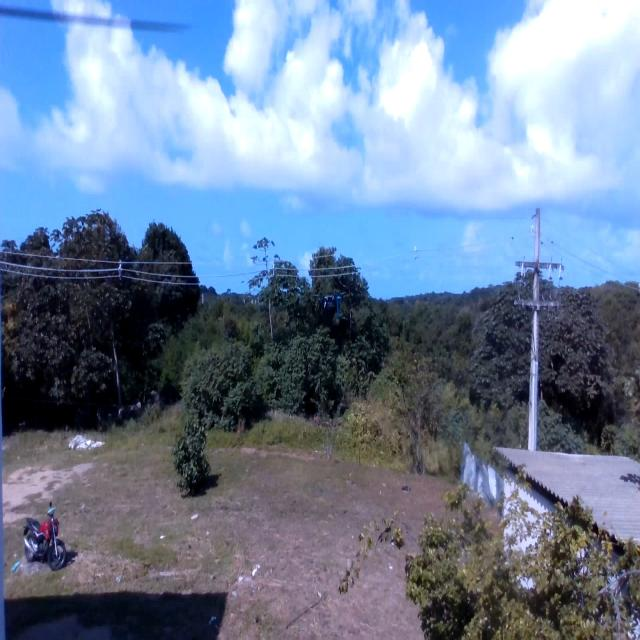-uav-: (310, 287, 352, 335)
